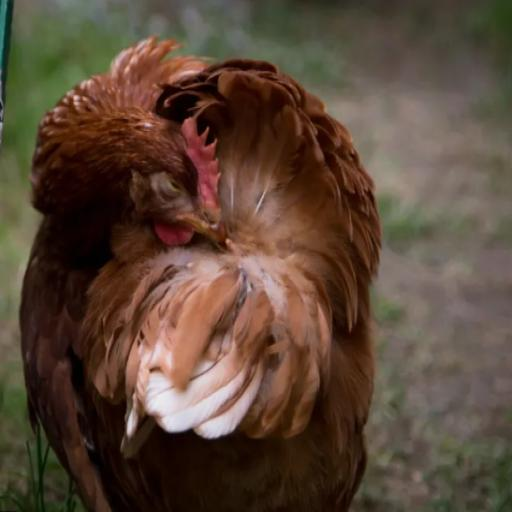disease: (129, 145, 208, 232)
